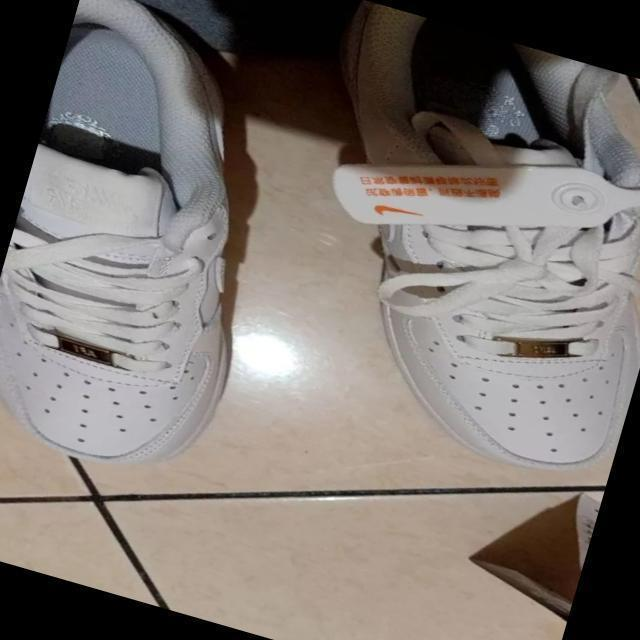nike fake air force: (255, 1, 640, 492), (0, 0, 332, 496)
